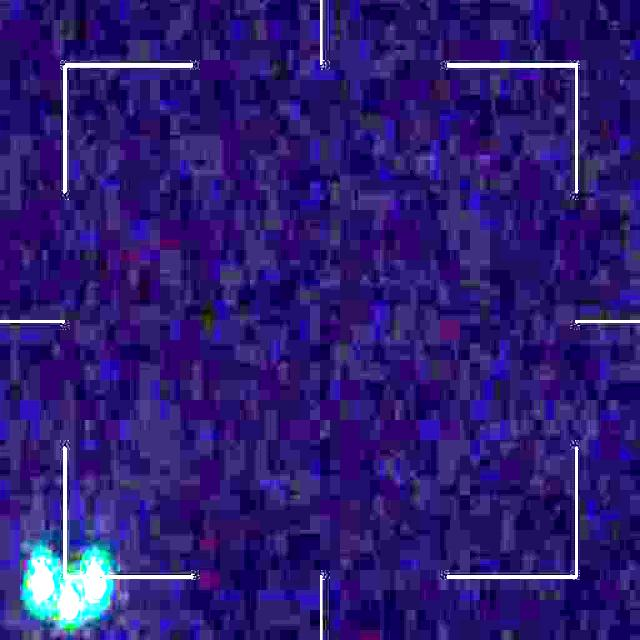bird: (29, 554, 106, 622)
